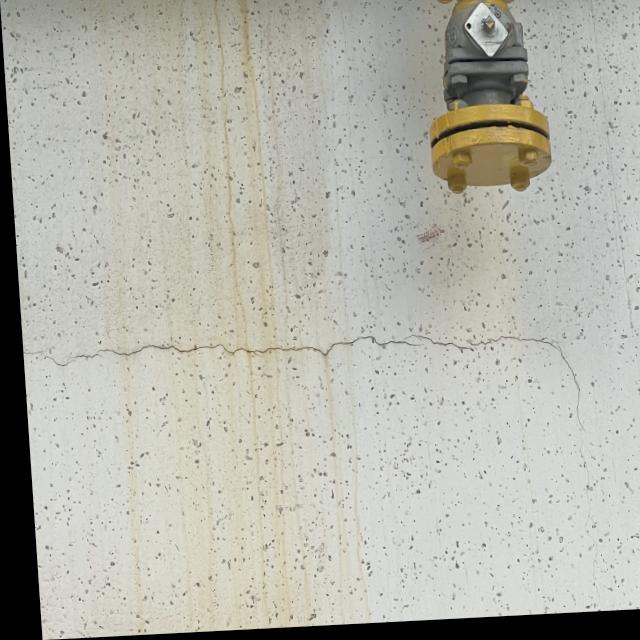crack: (23, 328, 607, 444)
